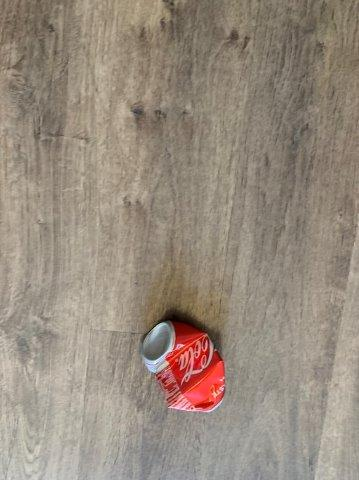kaleng: (141, 322, 225, 410)
